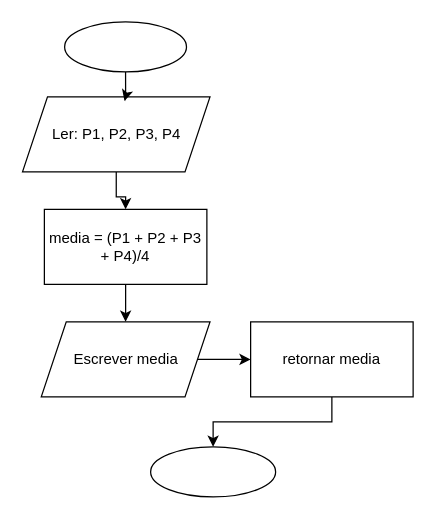
Image size: 435x519. Some labels were removed from this diagram. Here are the shapes that lost their labels. From the top down, the box of each, then its label:
(63, 21, 186, 72): Inicio
(149, 446, 276, 497): Fim
